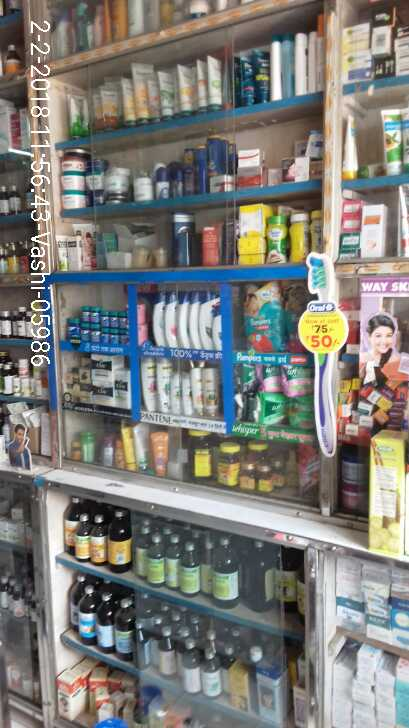beauty: (202, 367, 220, 416), (198, 289, 212, 352), (149, 291, 165, 346), (154, 359, 170, 412), (187, 291, 201, 351), (141, 360, 156, 413), (112, 370, 131, 408), (177, 291, 189, 349), (190, 360, 203, 413), (165, 293, 177, 348), (90, 378, 113, 406), (90, 354, 112, 378), (169, 372, 181, 416), (180, 372, 190, 413)
pharmacy: (240, 284, 286, 354), (280, 366, 314, 398), (253, 393, 285, 427), (285, 394, 316, 429), (250, 363, 279, 394)
